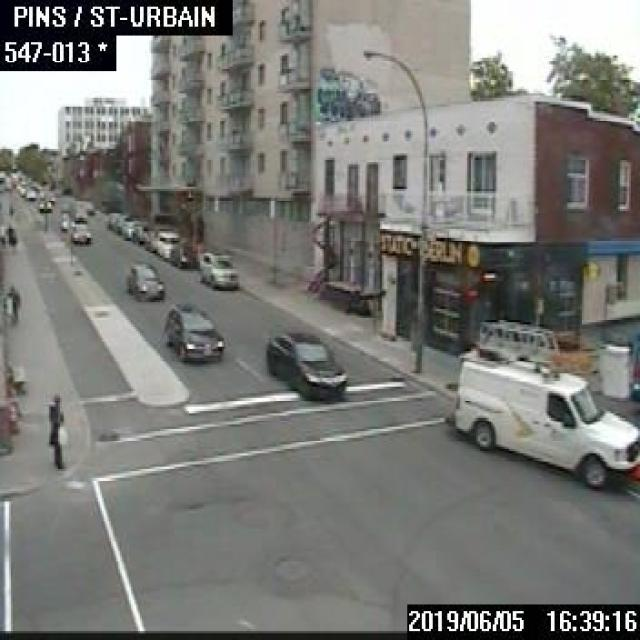pedestrian: (47, 396, 64, 466), (4, 282, 20, 324), (55, 410, 66, 467), (4, 224, 13, 246), (9, 230, 16, 250), (0, 232, 4, 248)
vehicle: (445, 316, 638, 486), (264, 330, 347, 398), (163, 303, 223, 360), (122, 259, 162, 300), (198, 249, 240, 287), (170, 239, 198, 268), (153, 228, 179, 256), (119, 218, 141, 238), (70, 223, 90, 242), (131, 224, 148, 242), (142, 228, 154, 250), (59, 211, 73, 229), (115, 212, 128, 230), (37, 198, 52, 212), (106, 211, 118, 227), (74, 207, 86, 221), (44, 190, 53, 200)
